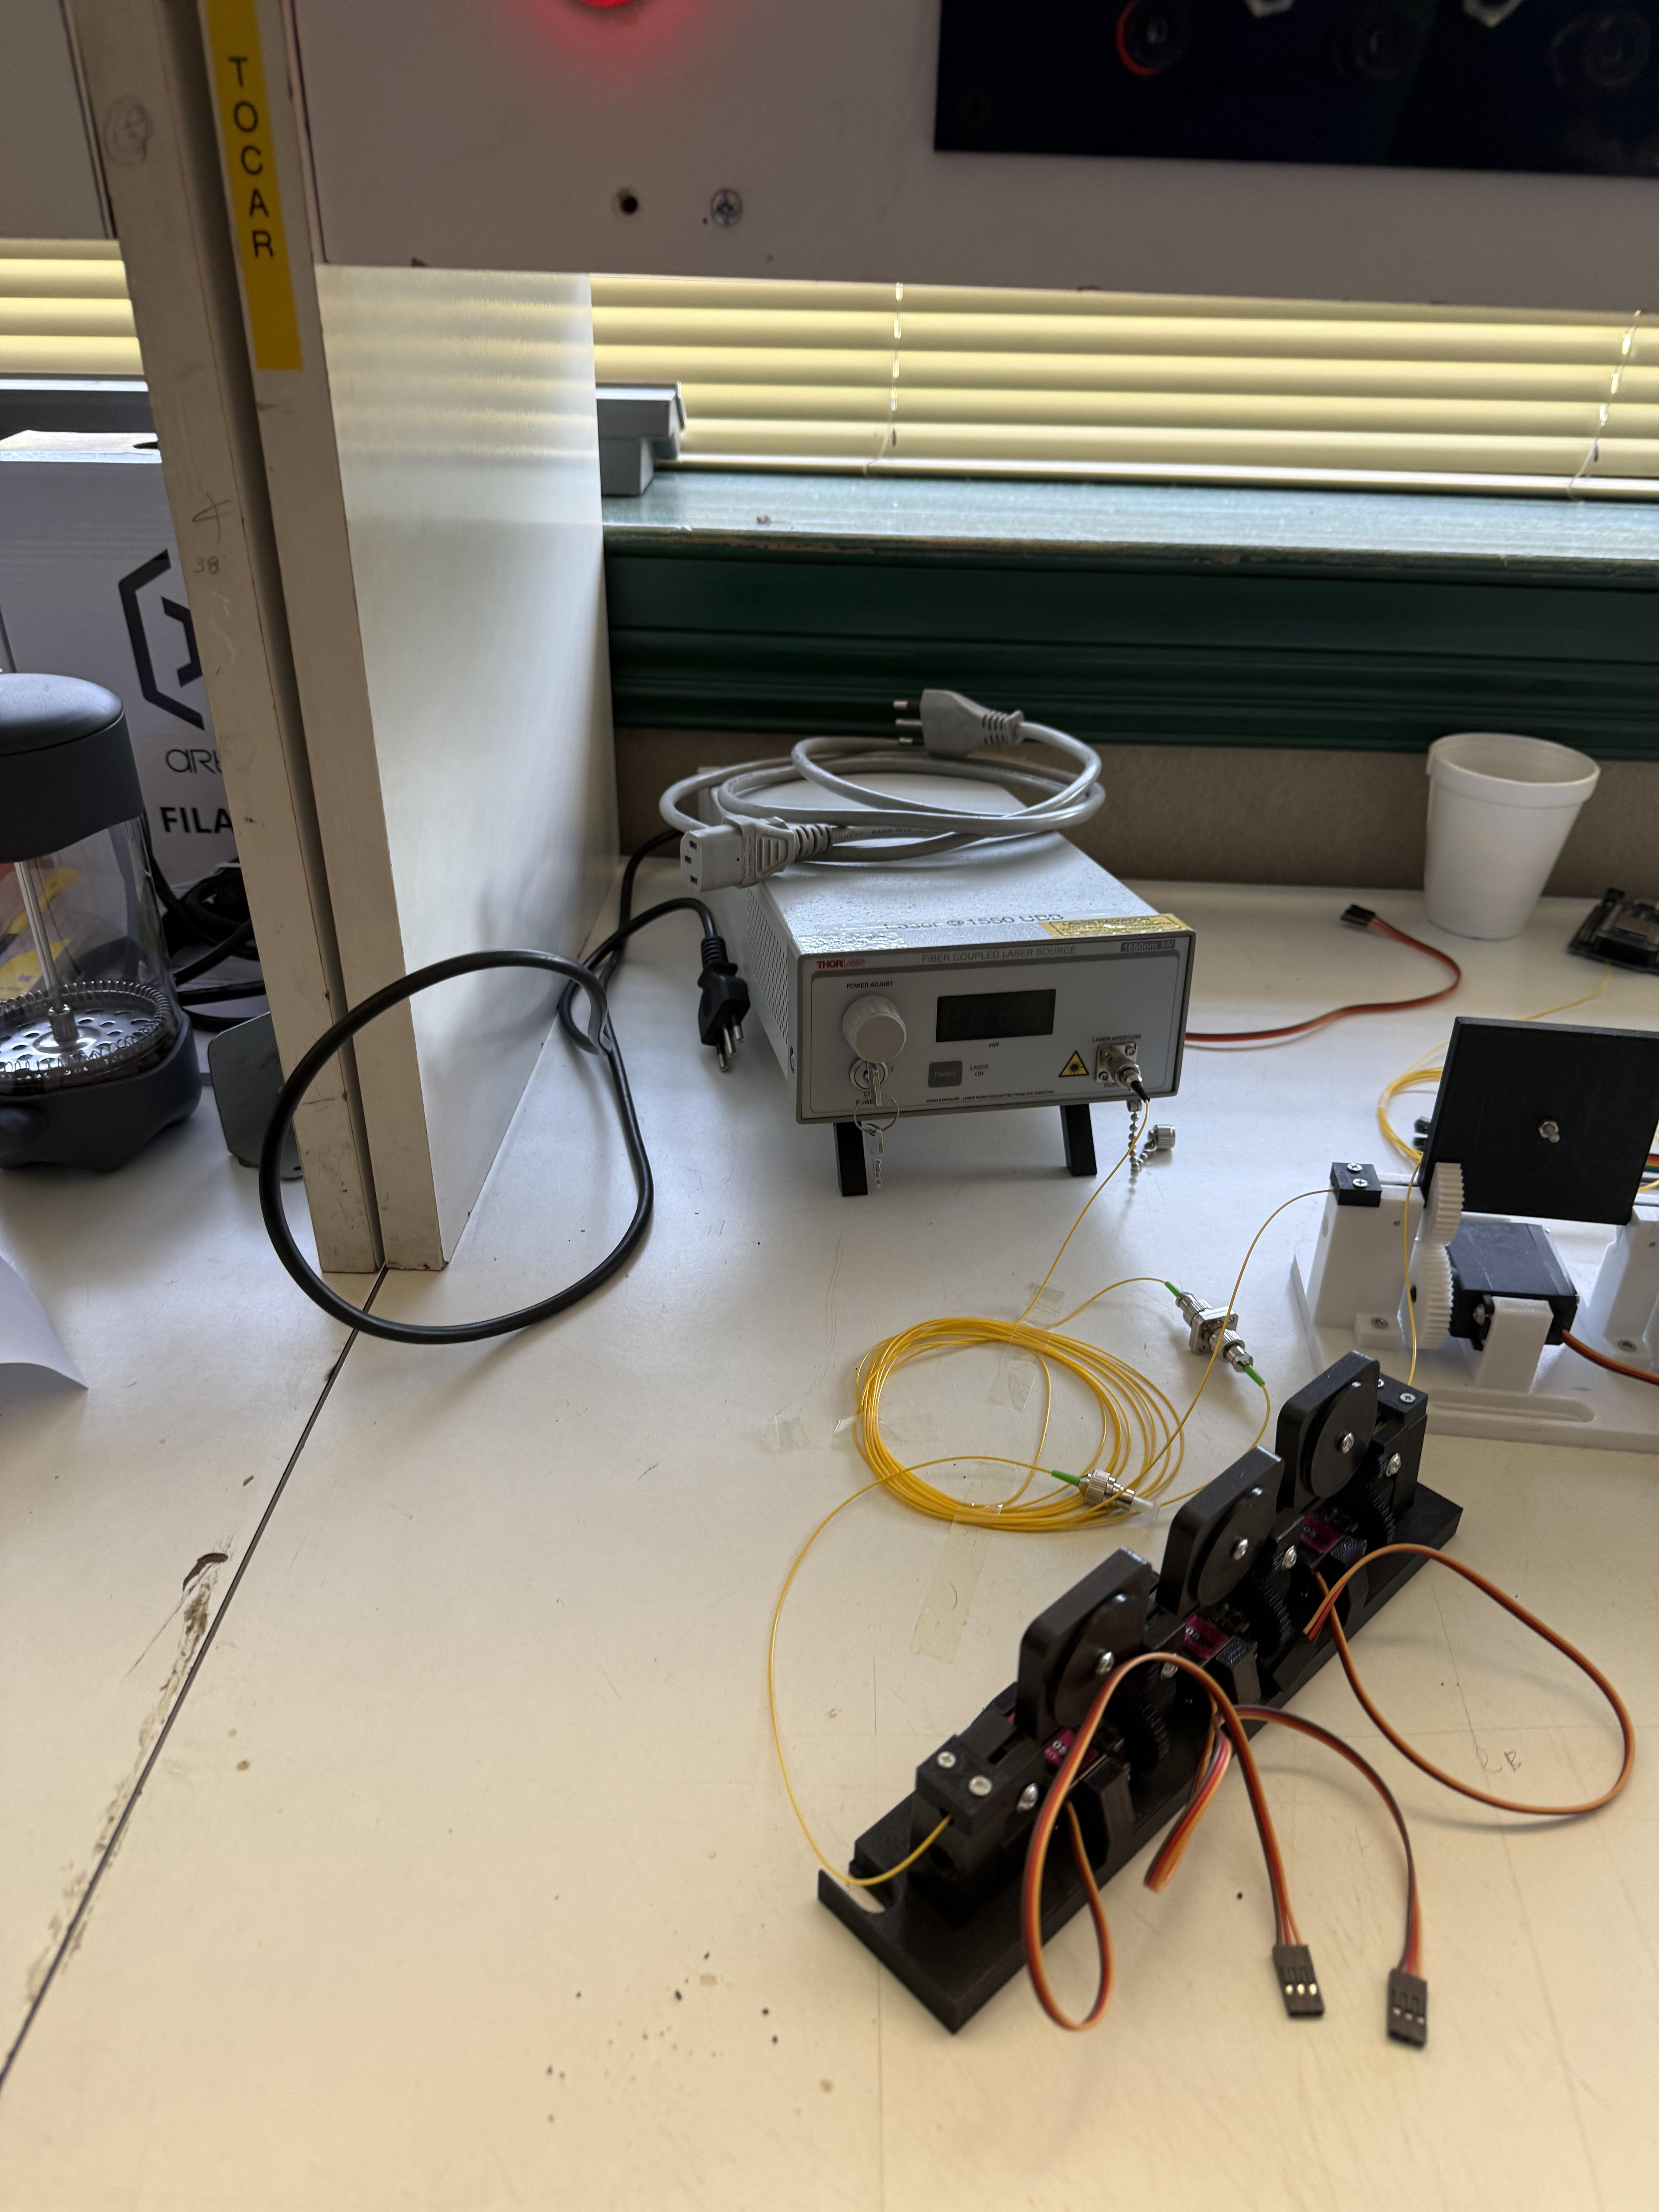fiber_cable: (843, 1305, 1197, 1540)
laser: (687, 735, 1204, 1207)
paddle_polarization_controller: (805, 1341, 1478, 2045), (1284, 1008, 1659, 1454)
